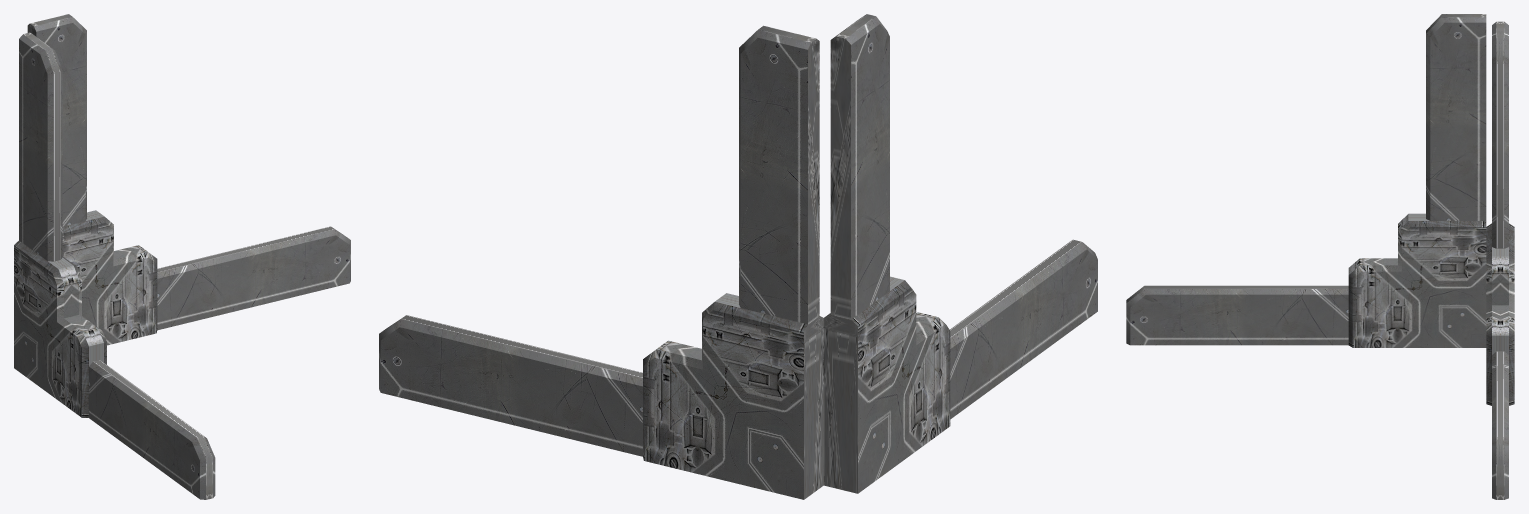
Rendered from SM_SAngle05.fbx.
The picture shows the model from 3 angles, left to right: view 1: azimuth 30°, elevation 25°; view 2: azimuth 150°, elevation 25°; view 3: azimuth 270°, elevation 25°; orthographic projection. The views are drawn at different scales.
Visible parts, largest first — view 1: SM_SAngle05_LOD0; view 2: SM_SAngle05_LOD0; view 3: SM_SAngle05_LOD0.
Boxes of the visible parts, x1,y1,x2,y2 form: SM_SAngle05_LOD0: (14,14,350,499); SM_SAngle05_LOD0: (379,14,1097,499); SM_SAngle05_LOD0: (1126,14,1514,499).
Bounding box in the file's own units: 341 × 341 × 316.
Materials: 1 (1 with a texture image).
